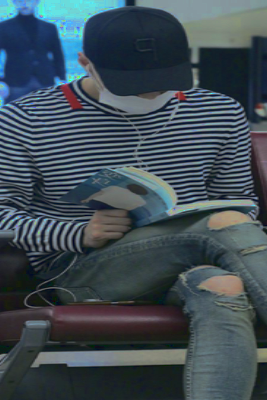mask_weared_incorrect: (93, 76, 175, 116)
